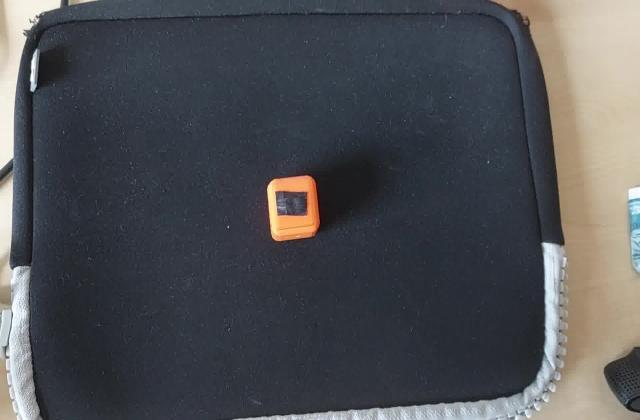black: (274, 186, 312, 220)
sticker: (265, 172, 322, 244)
